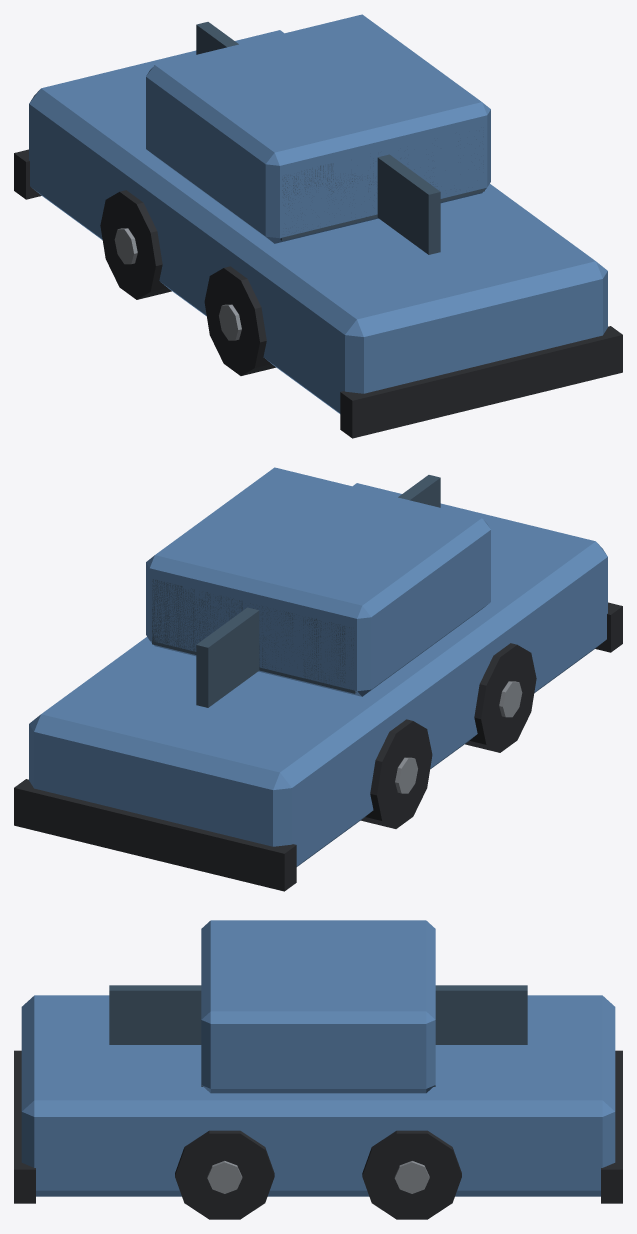
The model's file is vehicle.hatchback.glb.
3 renders of one model, top to bottom at view 1: azimuth 30°, elevation 25°; view 2: azimuth 150°, elevation 25°; view 3: azimuth 270°, elevation 25°, orthographic. The views are drawn at different scales.
Parts seen in each view (by area): view 1: vehicle.hatchback; view 2: vehicle.hatchback; view 3: vehicle.hatchback.
Boxes of the visible parts, x1,y1,x2,y2 form: vehicle.hatchback: [14, 14, 622, 438]; vehicle.hatchback: [14, 467, 622, 891]; vehicle.hatchback: [14, 920, 622, 1219].
Bounding box in the file's own units: 1.89 × 1.36 × 3.9.
